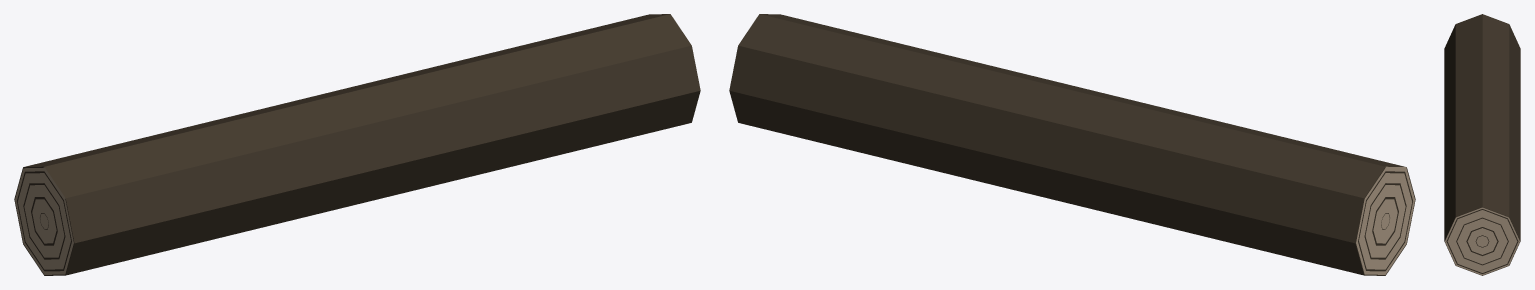
File: ChoppedLog.fbx
3 views of the same model, side by side, from view 1: azimuth 30°, elevation 25°; view 2: azimuth 150°, elevation 25°; view 3: azimuth 270°, elevation 25° (orthographic). The views are drawn at different scales.
Visible parts, largest first — view 1: pCylinder1; view 2: pCylinder1; view 3: pCylinder1.
Part boxes in pixels (box(x1,y1,x2,y2)): pCylinder1: box(14, 14, 700, 275); pCylinder1: box(729, 14, 1415, 275); pCylinder1: box(1444, 14, 1520, 275).
Bounding box in the file's own units: 198 × 33 × 33.
